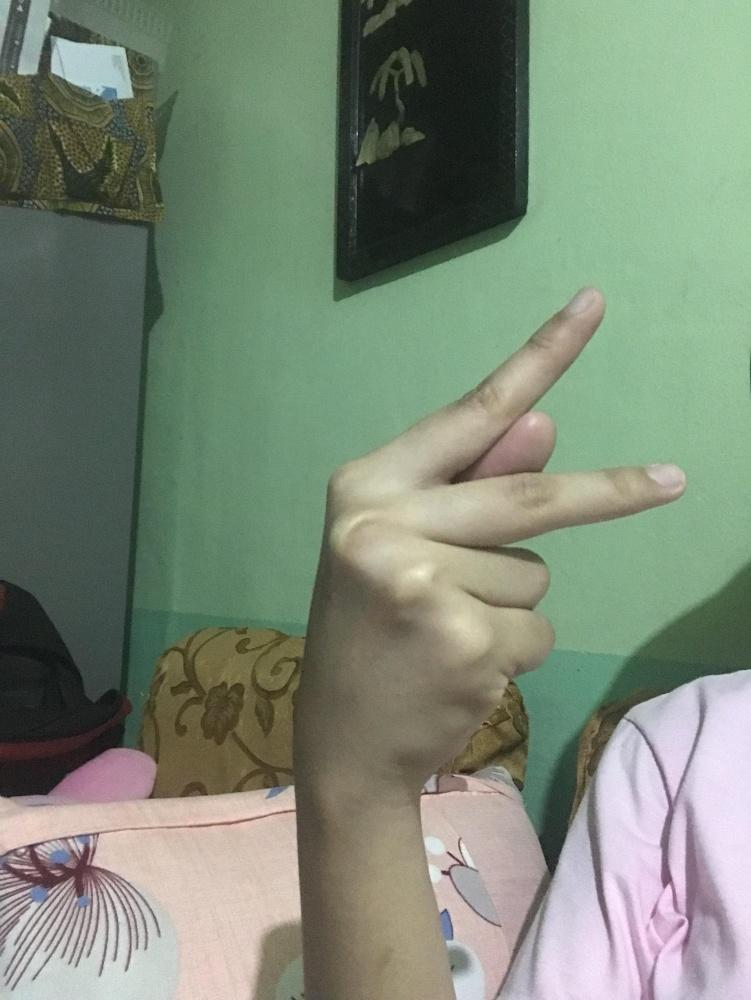k: (292, 282, 692, 786)
